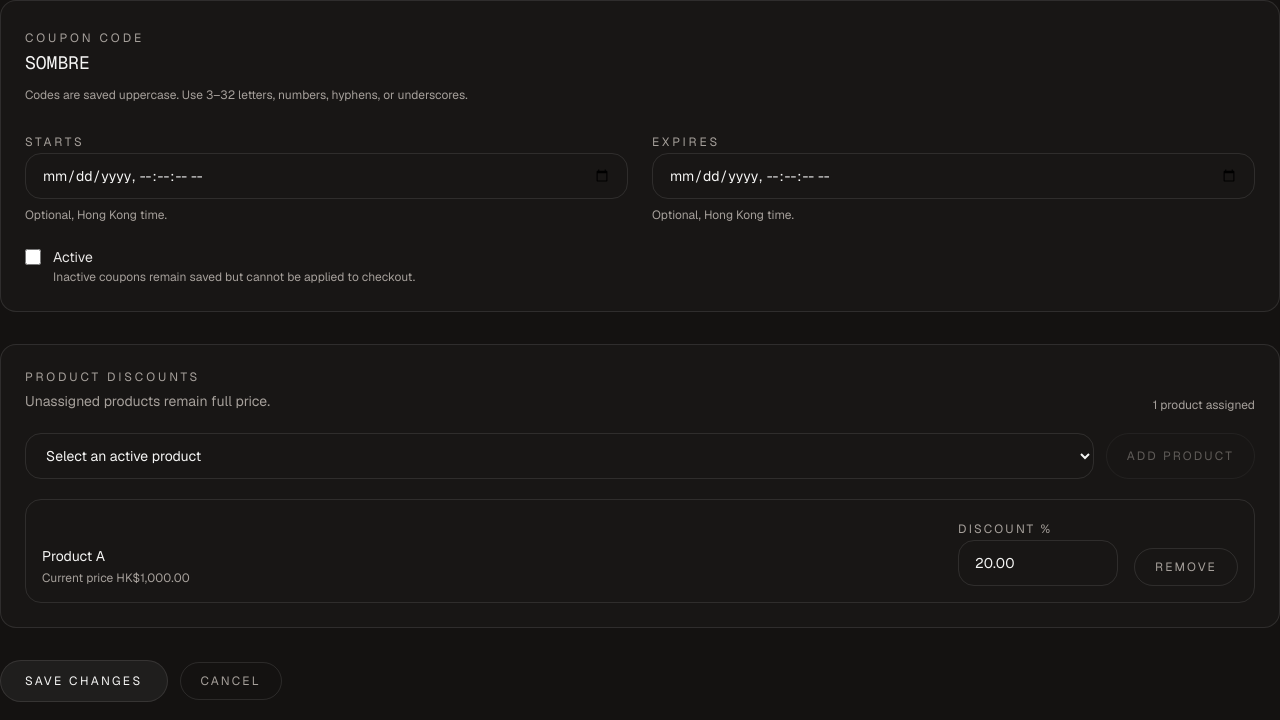
Test case: admin coupon form › adds active products, accepts different percentages, and removes assignments
Expected: the text "1 product assigned" is shown, [1153,397,1255,413]
Expected: the number field showing "20.00" is shown, [958,540,1118,586]
Select "Product B — HK$500.00" in the dropdown named "Active product to add" at (559, 456), box [25,433,1094,479]
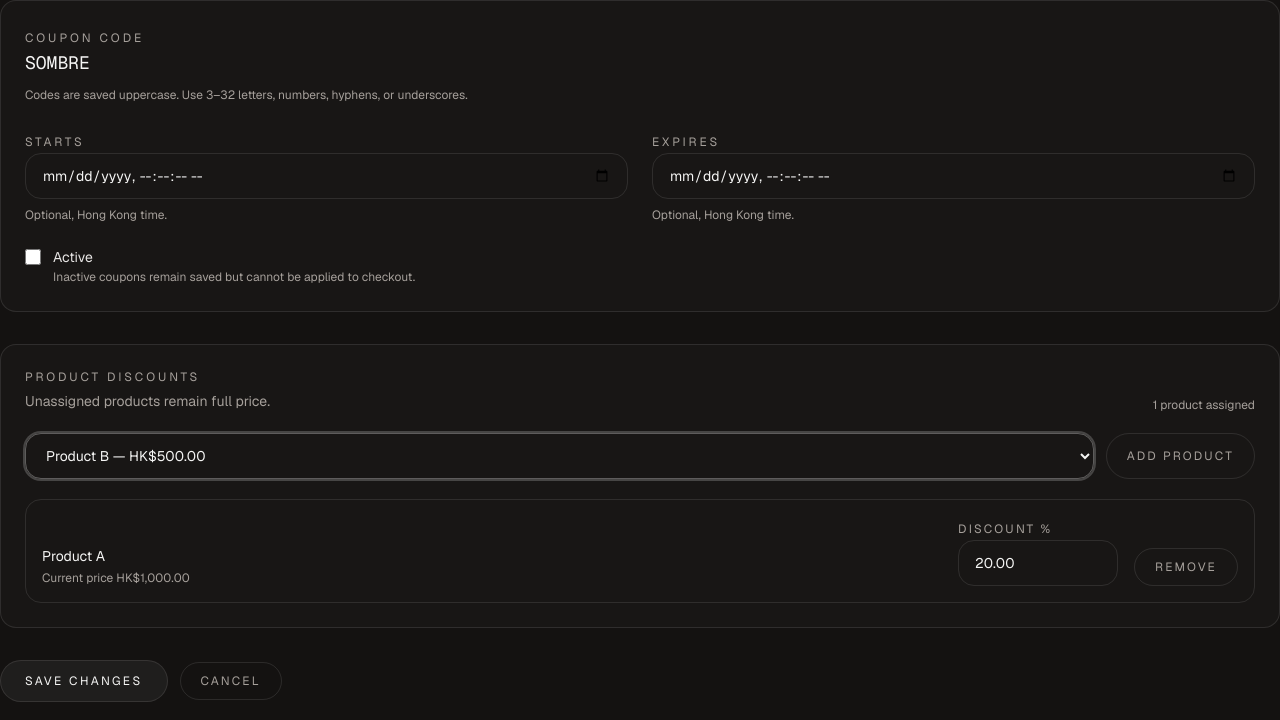
Click the button "Add product" at (1180, 456), box [1106,433,1255,479]
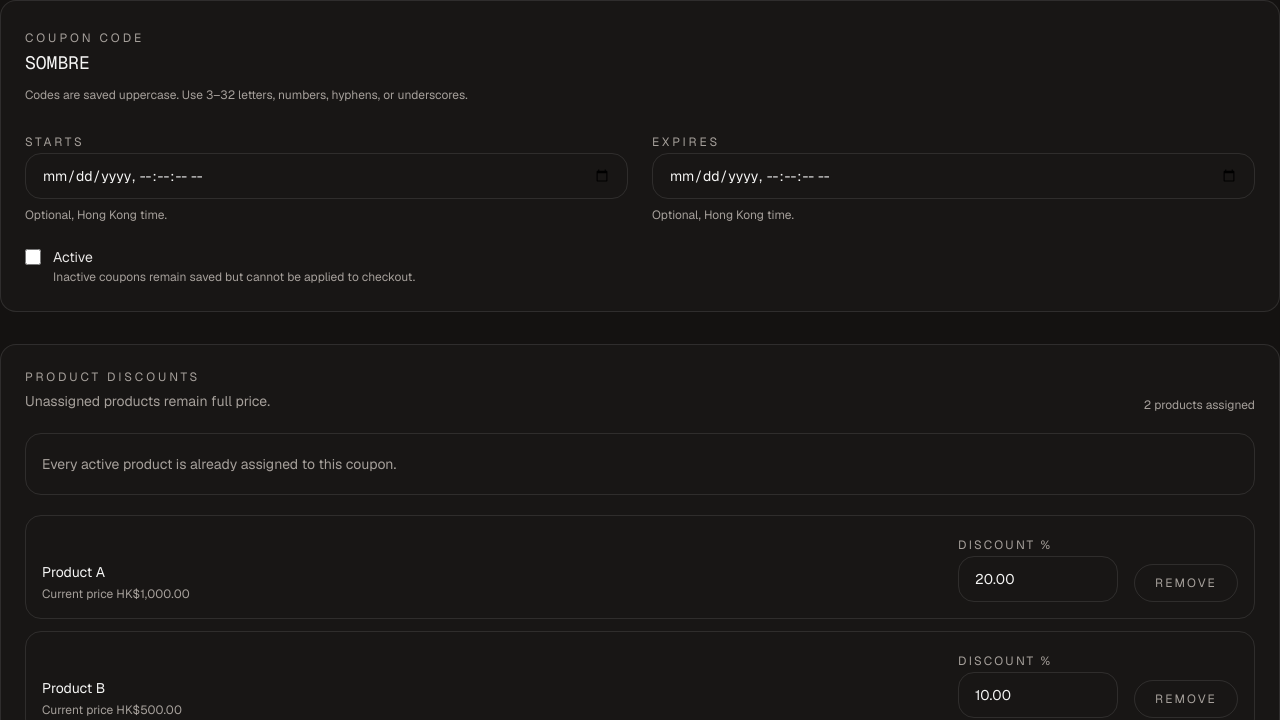
Expected: the text "2 products assigned" is shown, [1144,397,1255,413]
Replace the text in the number field labelled "Discount %" in the row of "HK$500.00" with "5.25" at (1038, 695), box [958,672,1118,718]
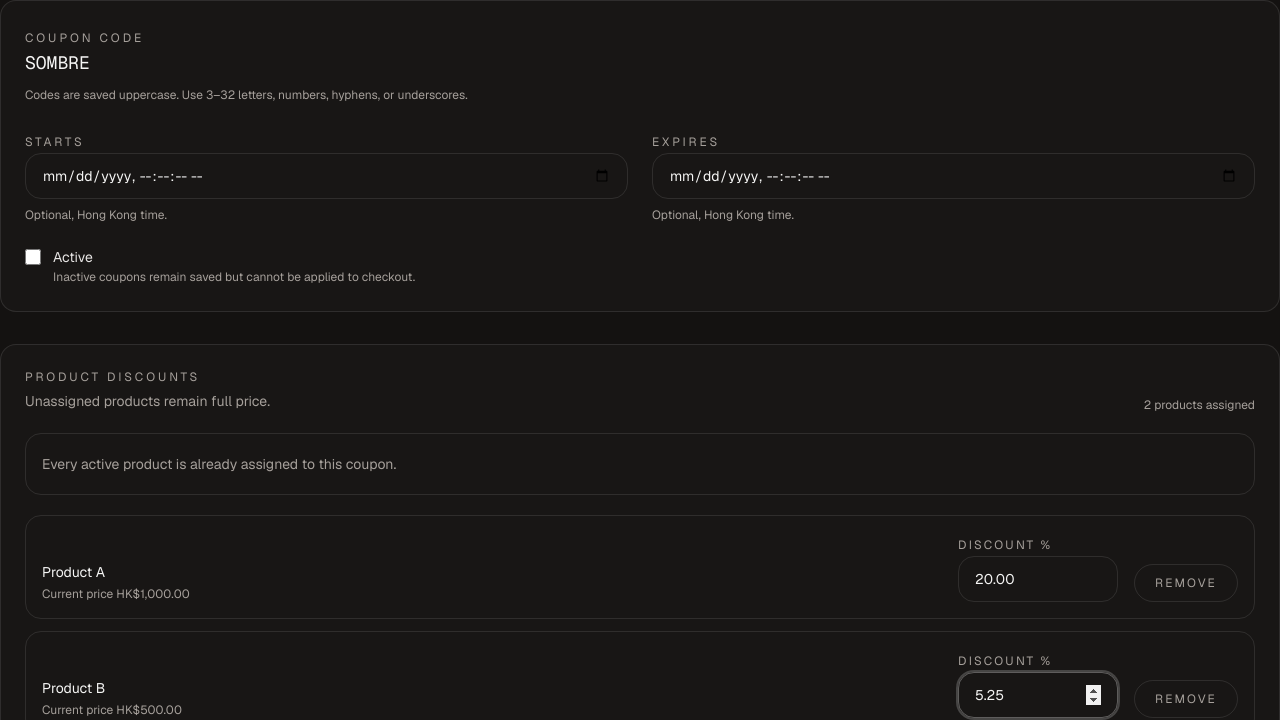
Click the button with aria-label "Remove Product A assignment" at (1186, 583), box [1134,564,1238,602]
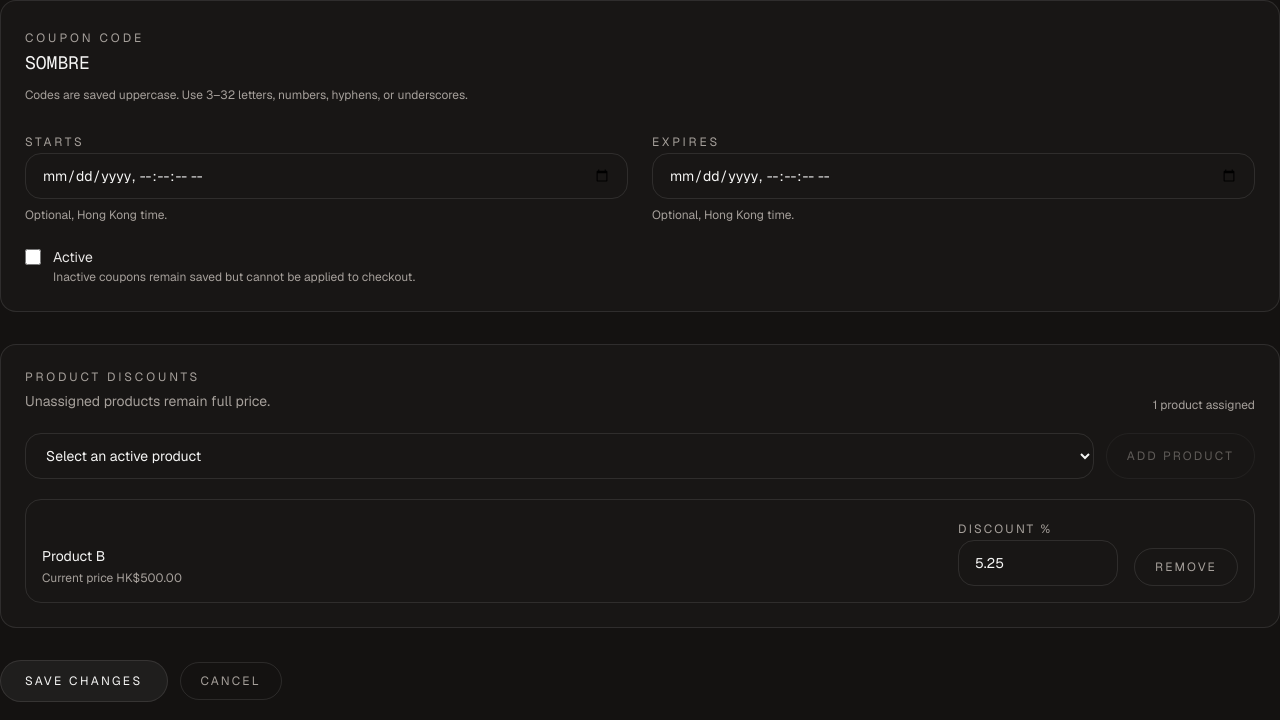
Expected: the text "1 product assigned" is shown, [1153,397,1255,413]
